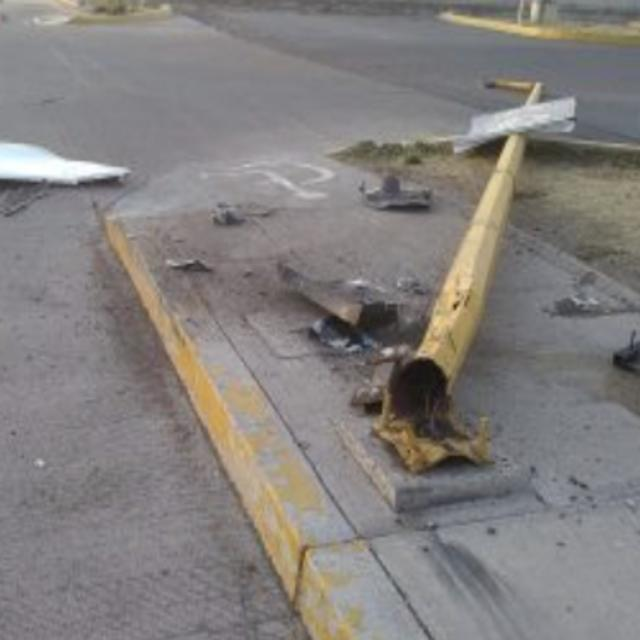Inclined Pole: (339, 75, 577, 515)
